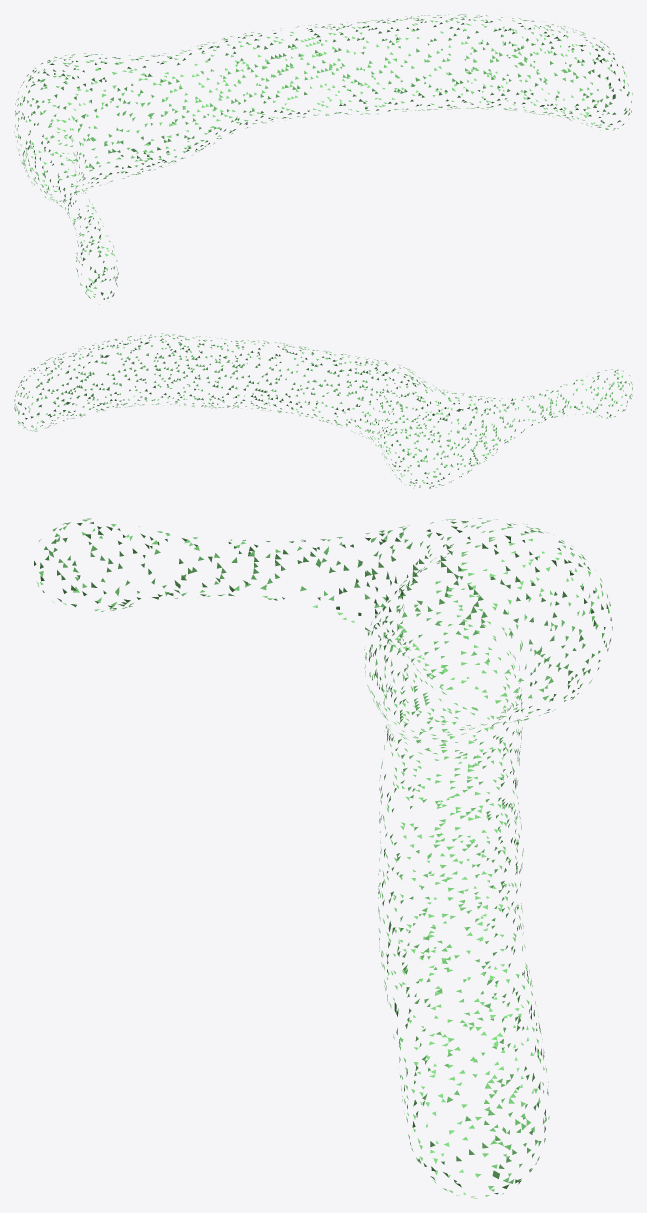
File: morph_017.glb
3 renders of one model, top to bottom at view 1: azimuth 30°, elevation 25°; view 2: azimuth 150°, elevation 25°; view 3: azimuth 270°, elevation 25°, orthographic. The views are drawn at different scales.
Size of the model in its own units: 127 by 34.02 by 63.15.
